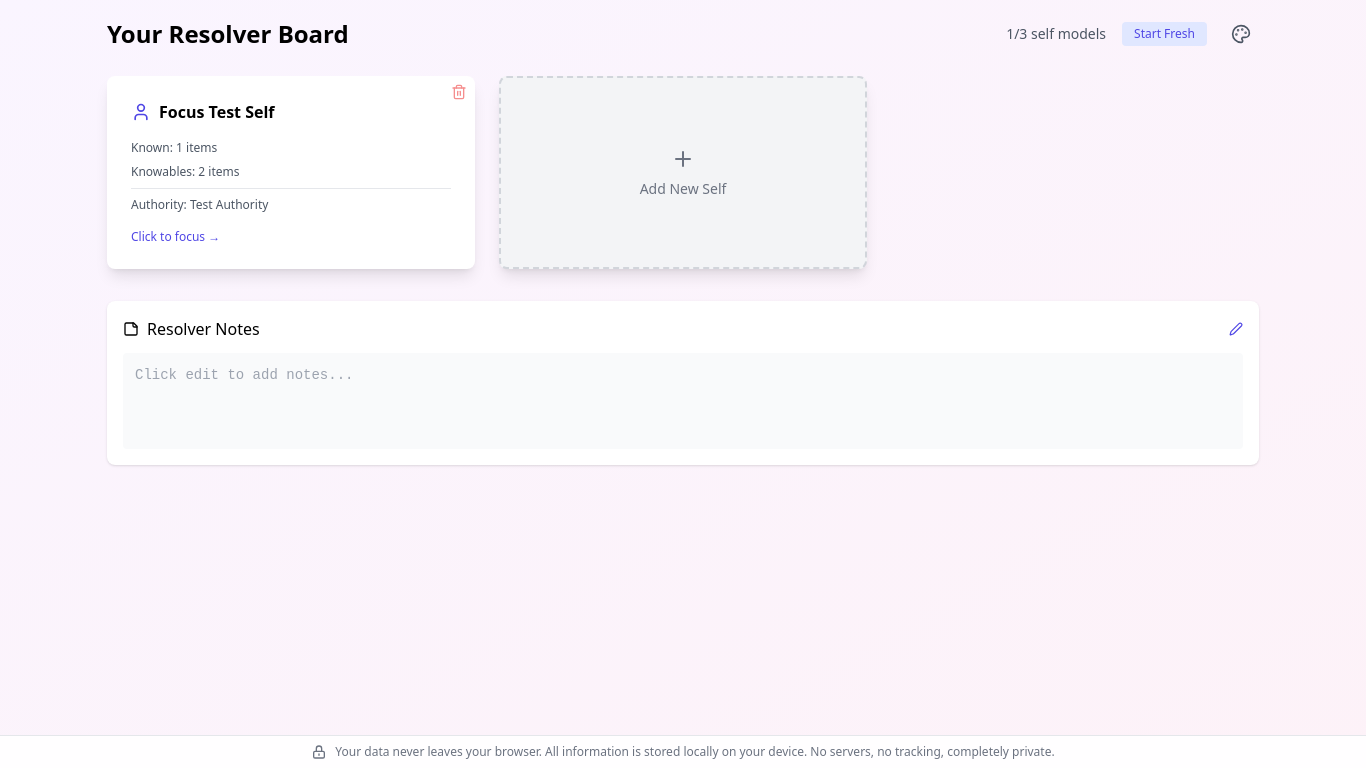
Test: ResolverApp › Focus View › should exit focus view
The width and height of the screenshot is (1366, 768).
Click the heading "Focus Test Self": (217, 112) [159,100,274,124]
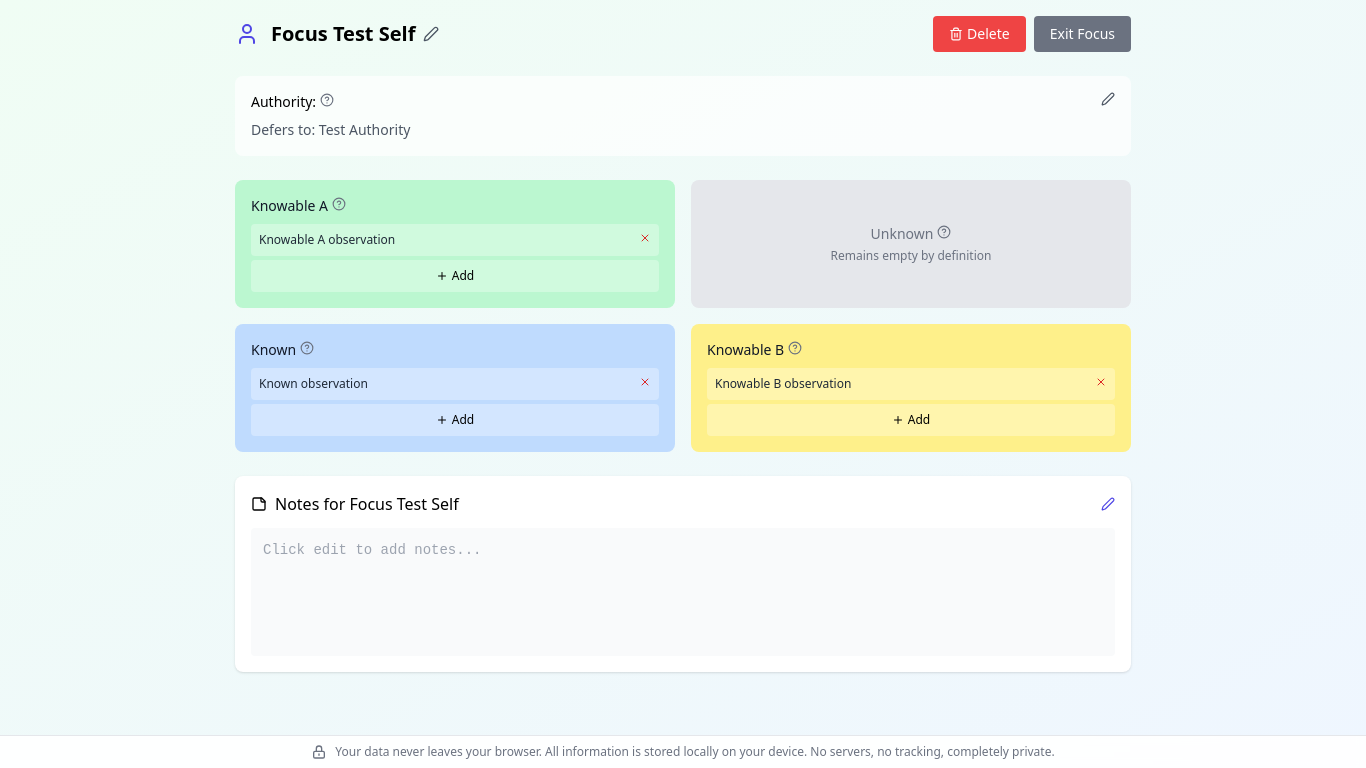
Click the button "Exit Focus": (1082, 34) [1034,16,1131,52]
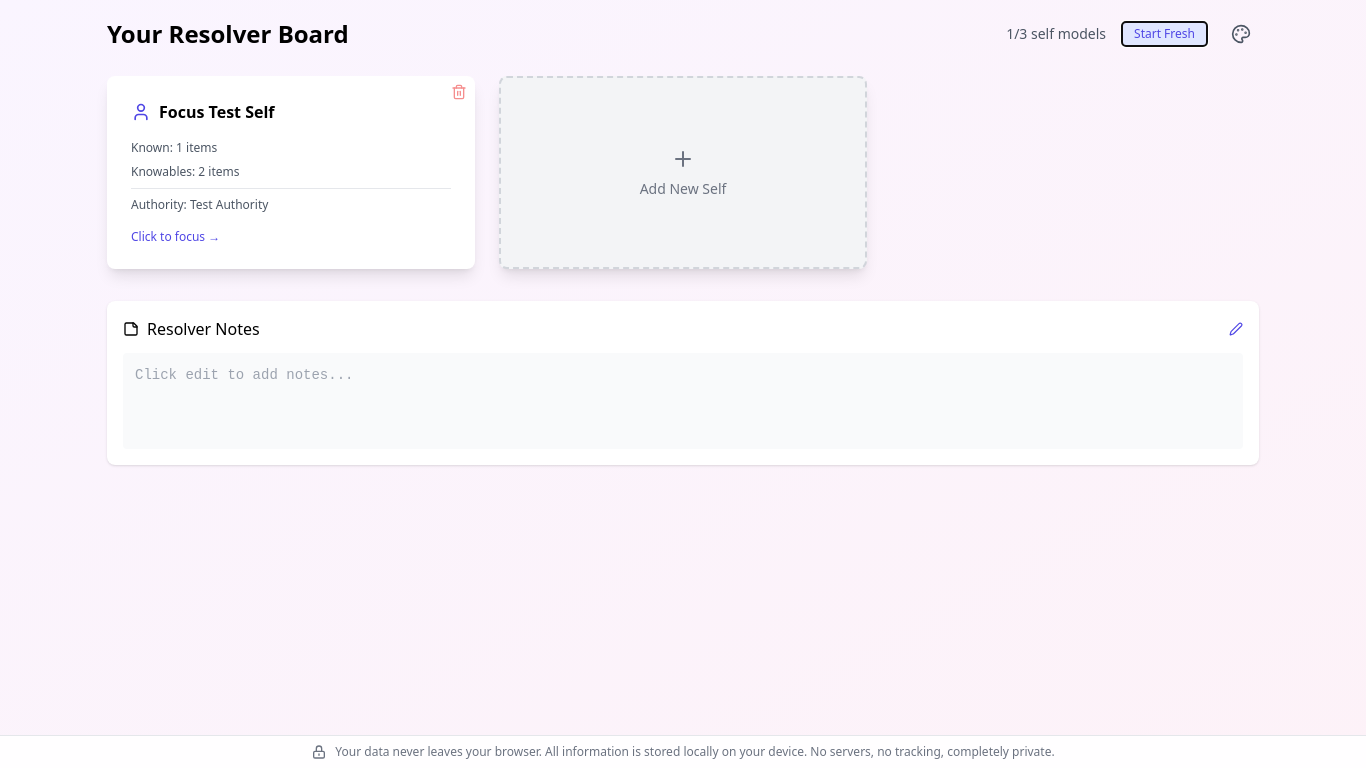
Check: the heading "Your Resolver Board" is shown, box [107,18,349,50]
